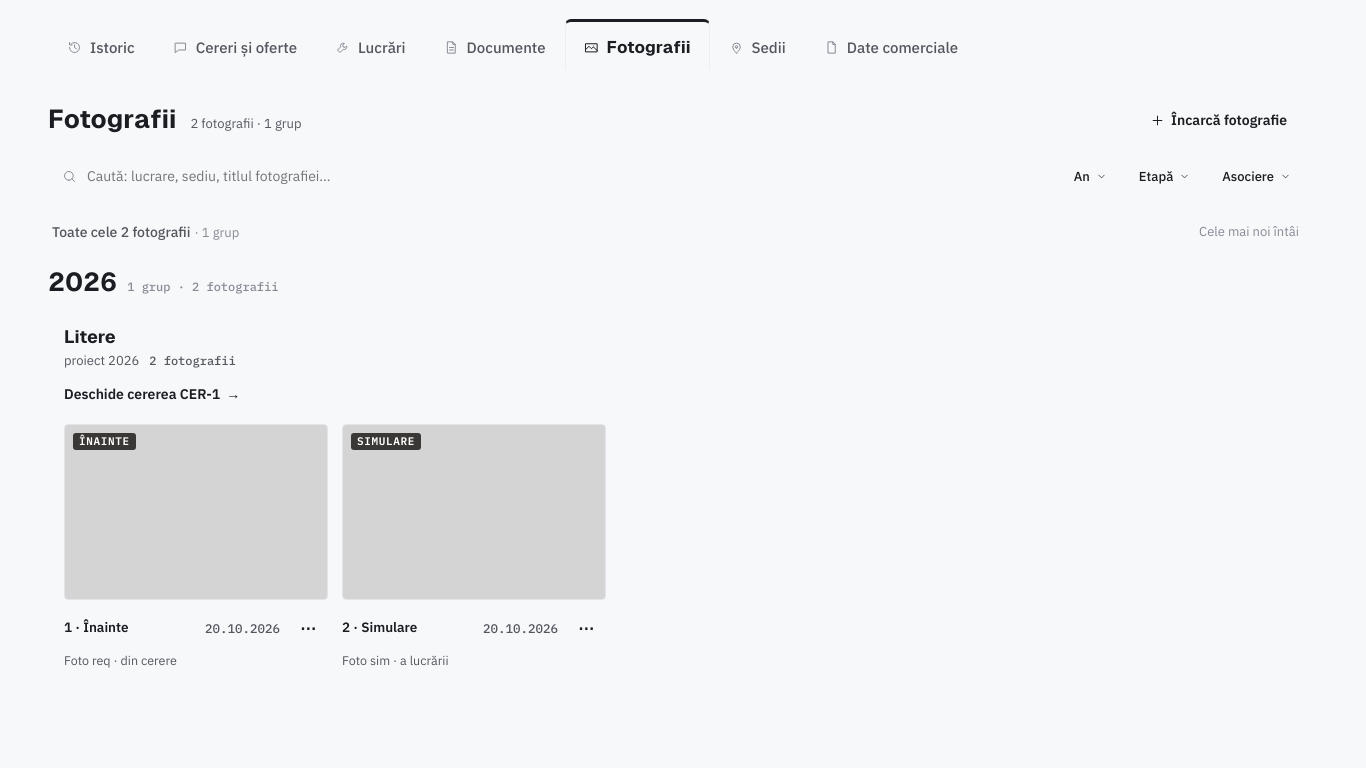
Test case: Fotografia reprezentativă a lucrării (N-021) › asks for the exact work, saves with the revision read and shows the discreet mark
(page scrolled)
Click the button named "Acțiuni pentru Foto sim": [586, 628] box top-left (566, 608), bottom-right (606, 648)
(page scrolled)
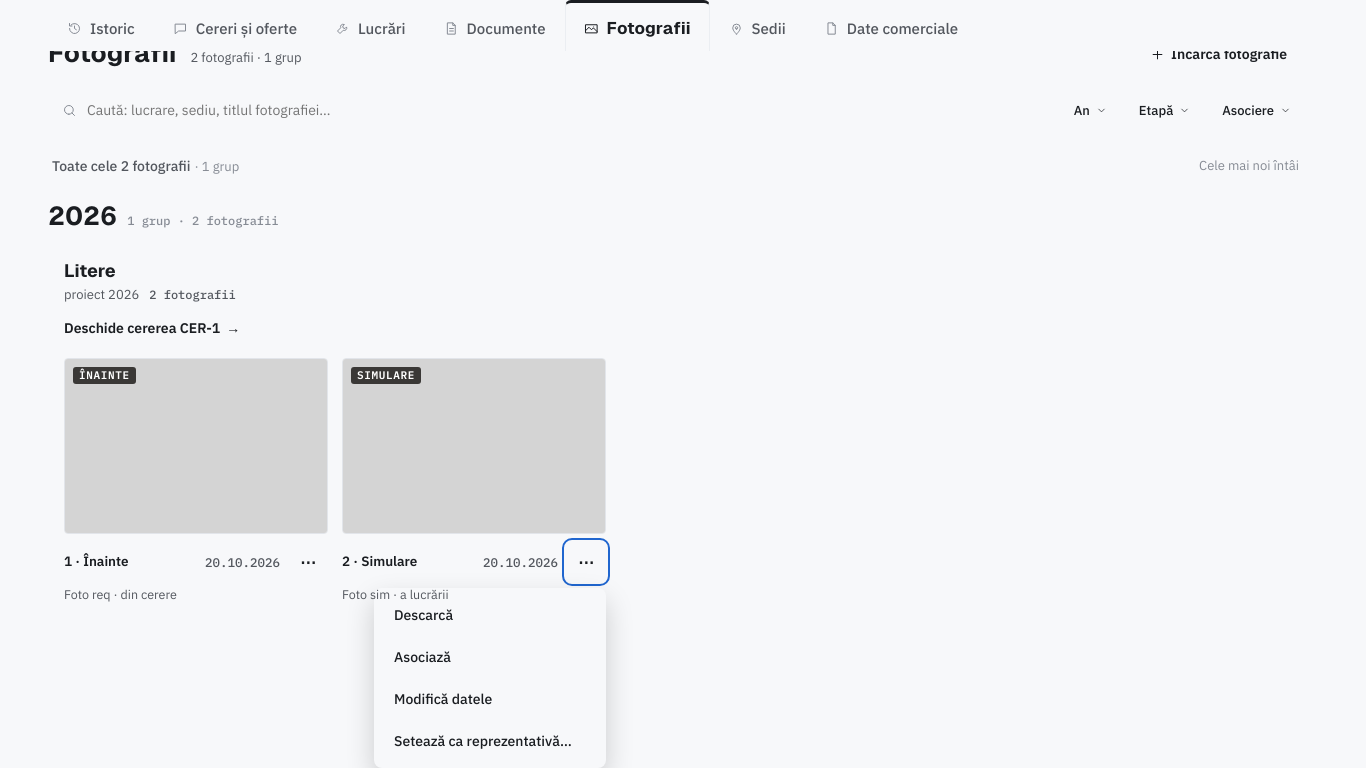
Click the button "Setează ca reprezentativă…": [490, 741] box top-left (380, 720), bottom-right (600, 762)
(page scrolled)
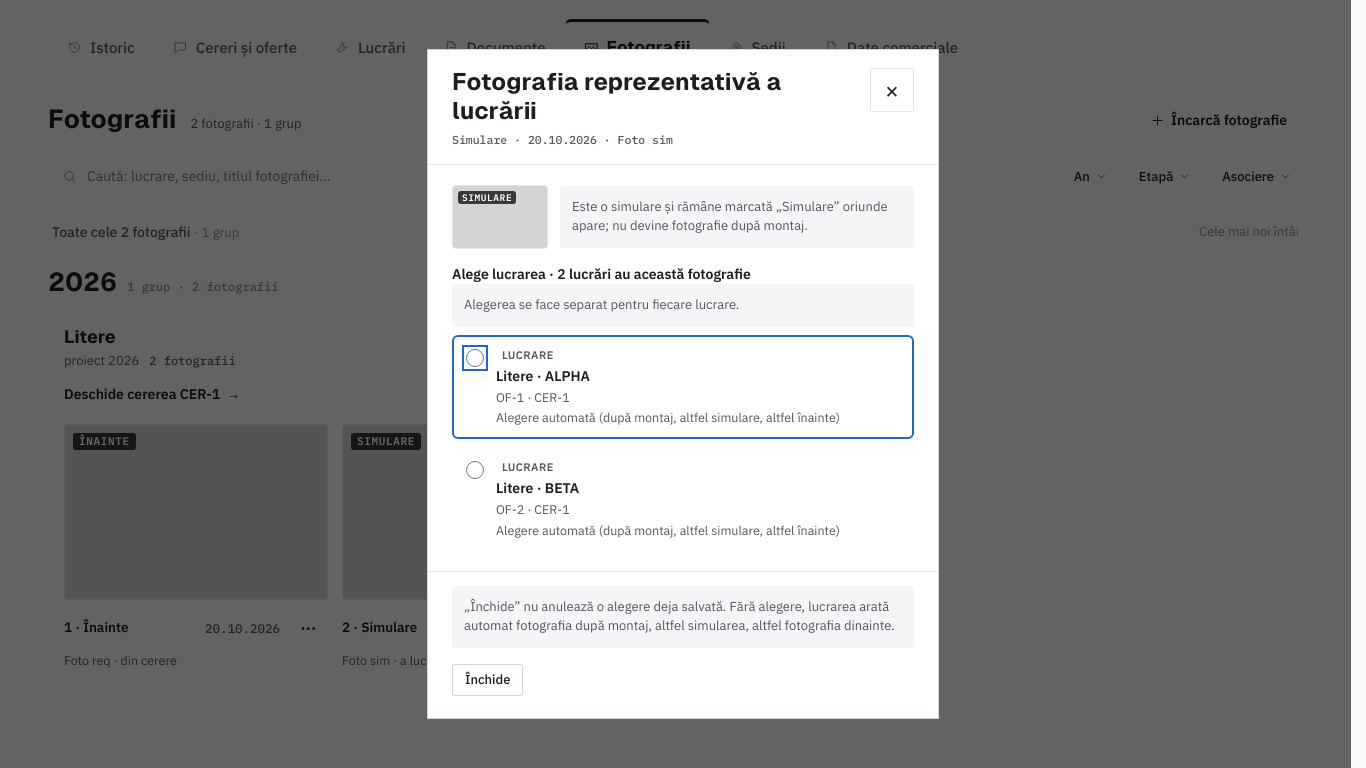
expect the element "Alege lucrarea · 2 lucrări" is shown: met, box top-left (452, 265), bottom-right (914, 551)
expect the button "Setează ca reprezentativă" is gone: met
expect the text "Este o simulare și rămâne marcată „Simulare”" is shown: met, box top-left (572, 198), bottom-right (888, 234)
Click the radio button labelled "Litere · BETA": [475, 470] box top-left (466, 461), bottom-right (484, 479)
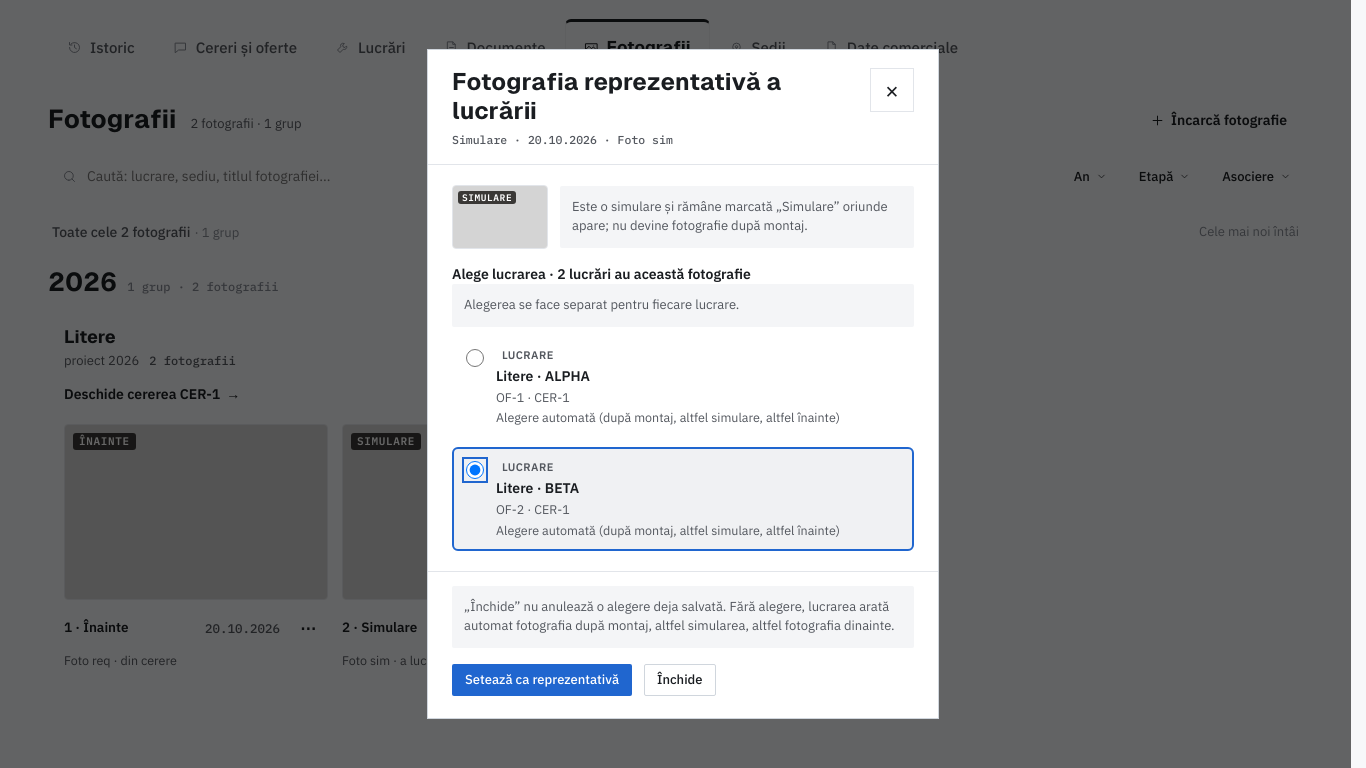
Click the button "Setează ca reprezentativă": [542, 680] box top-left (452, 658), bottom-right (632, 702)
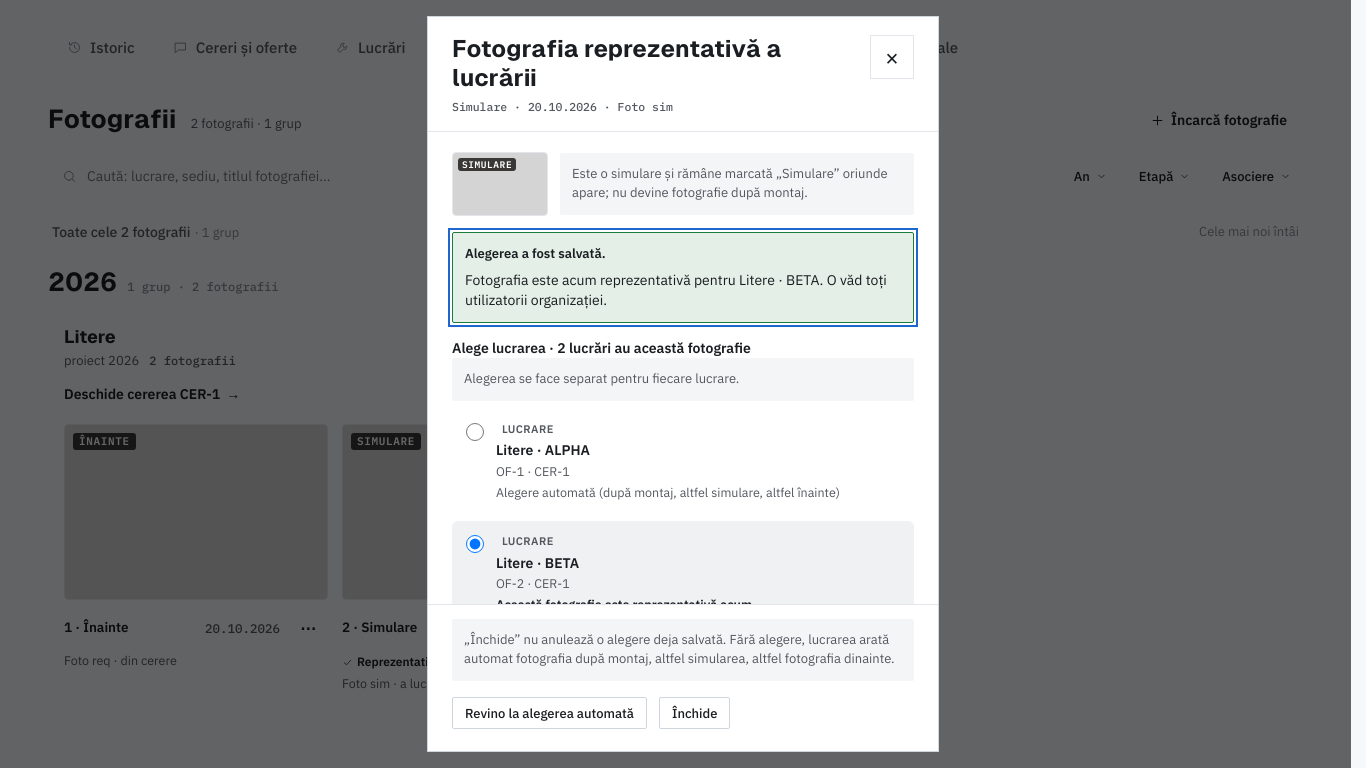
expect the text "Alegerea a fost salvată." is shown: met, box top-left (465, 245), bottom-right (606, 262)
expect the text "Această fotografie este reprezentativă acum" is shown: met, box top-left (496, 596), bottom-right (752, 612)
expect the button "Revino la alegerea automată" is shown: met, box top-left (452, 691), bottom-right (647, 735)
Click the button "Închide": [695, 713] box top-left (659, 691), bottom-right (730, 735)
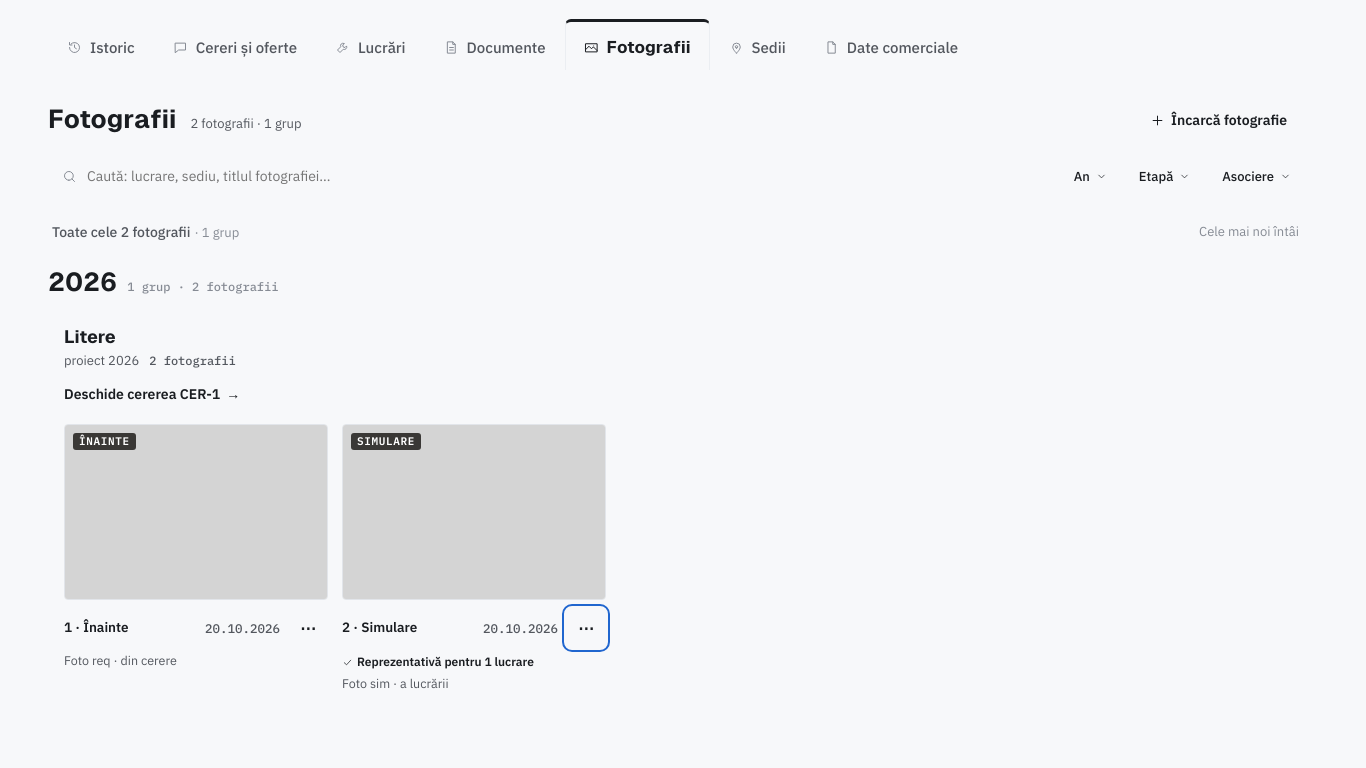
expect the dialog is gone: met
